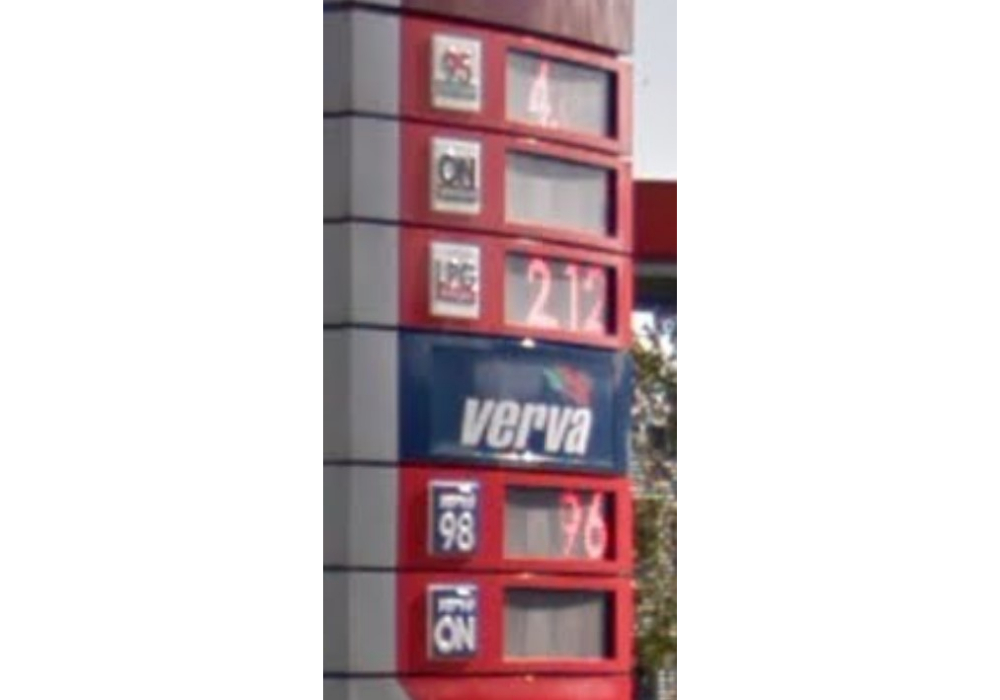LPG: (427, 232, 486, 322)
ON: (426, 134, 482, 214), (427, 581, 480, 662)
PB95: (431, 27, 484, 117)
PB98: (427, 480, 480, 559)
